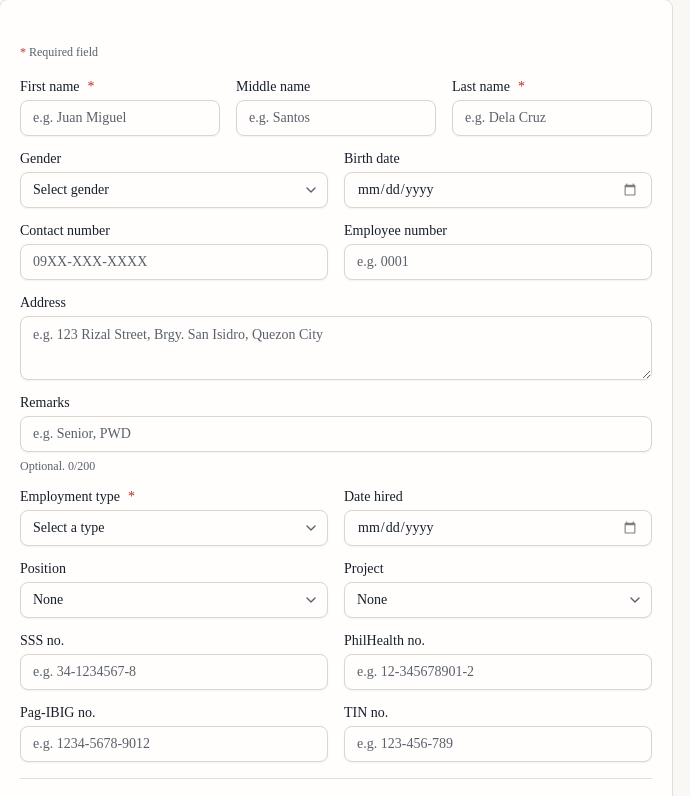
Test: Remarks on the hire form › counts the characters typed against the limit
The image size is (690, 796).
Expected: the text "Optional. 0/200" is shown, [20,459,95,473]
Step 1. Type "Senior" into the field labelled "Remarks" → (336, 434), box [20,416,652,452]
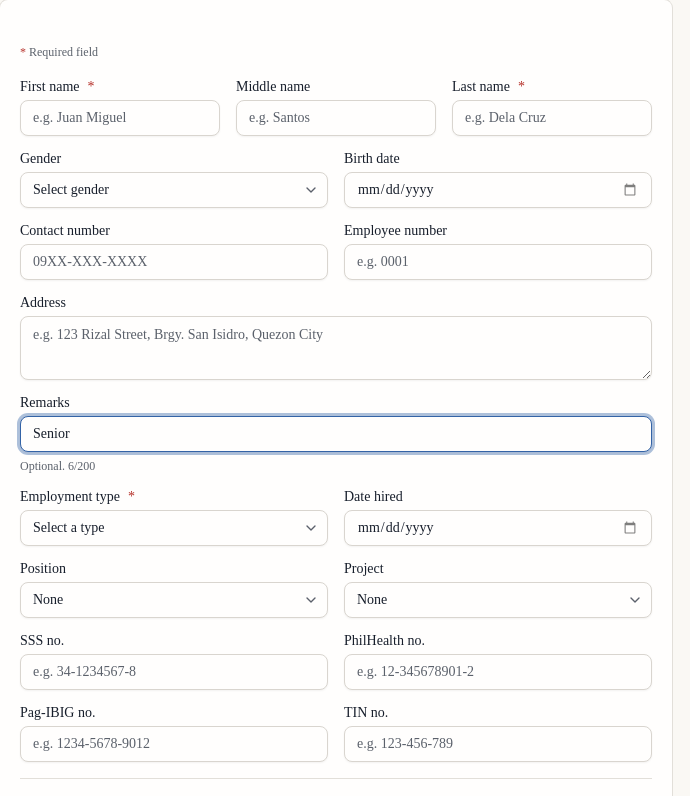
Expected: the text "Optional. 6/200" is shown, [20,459,95,473]
